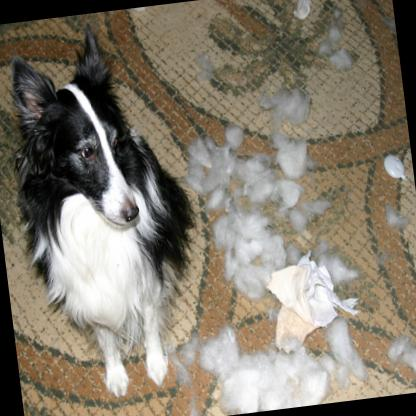Shetland_sheepdog: (0, 12, 214, 405)
